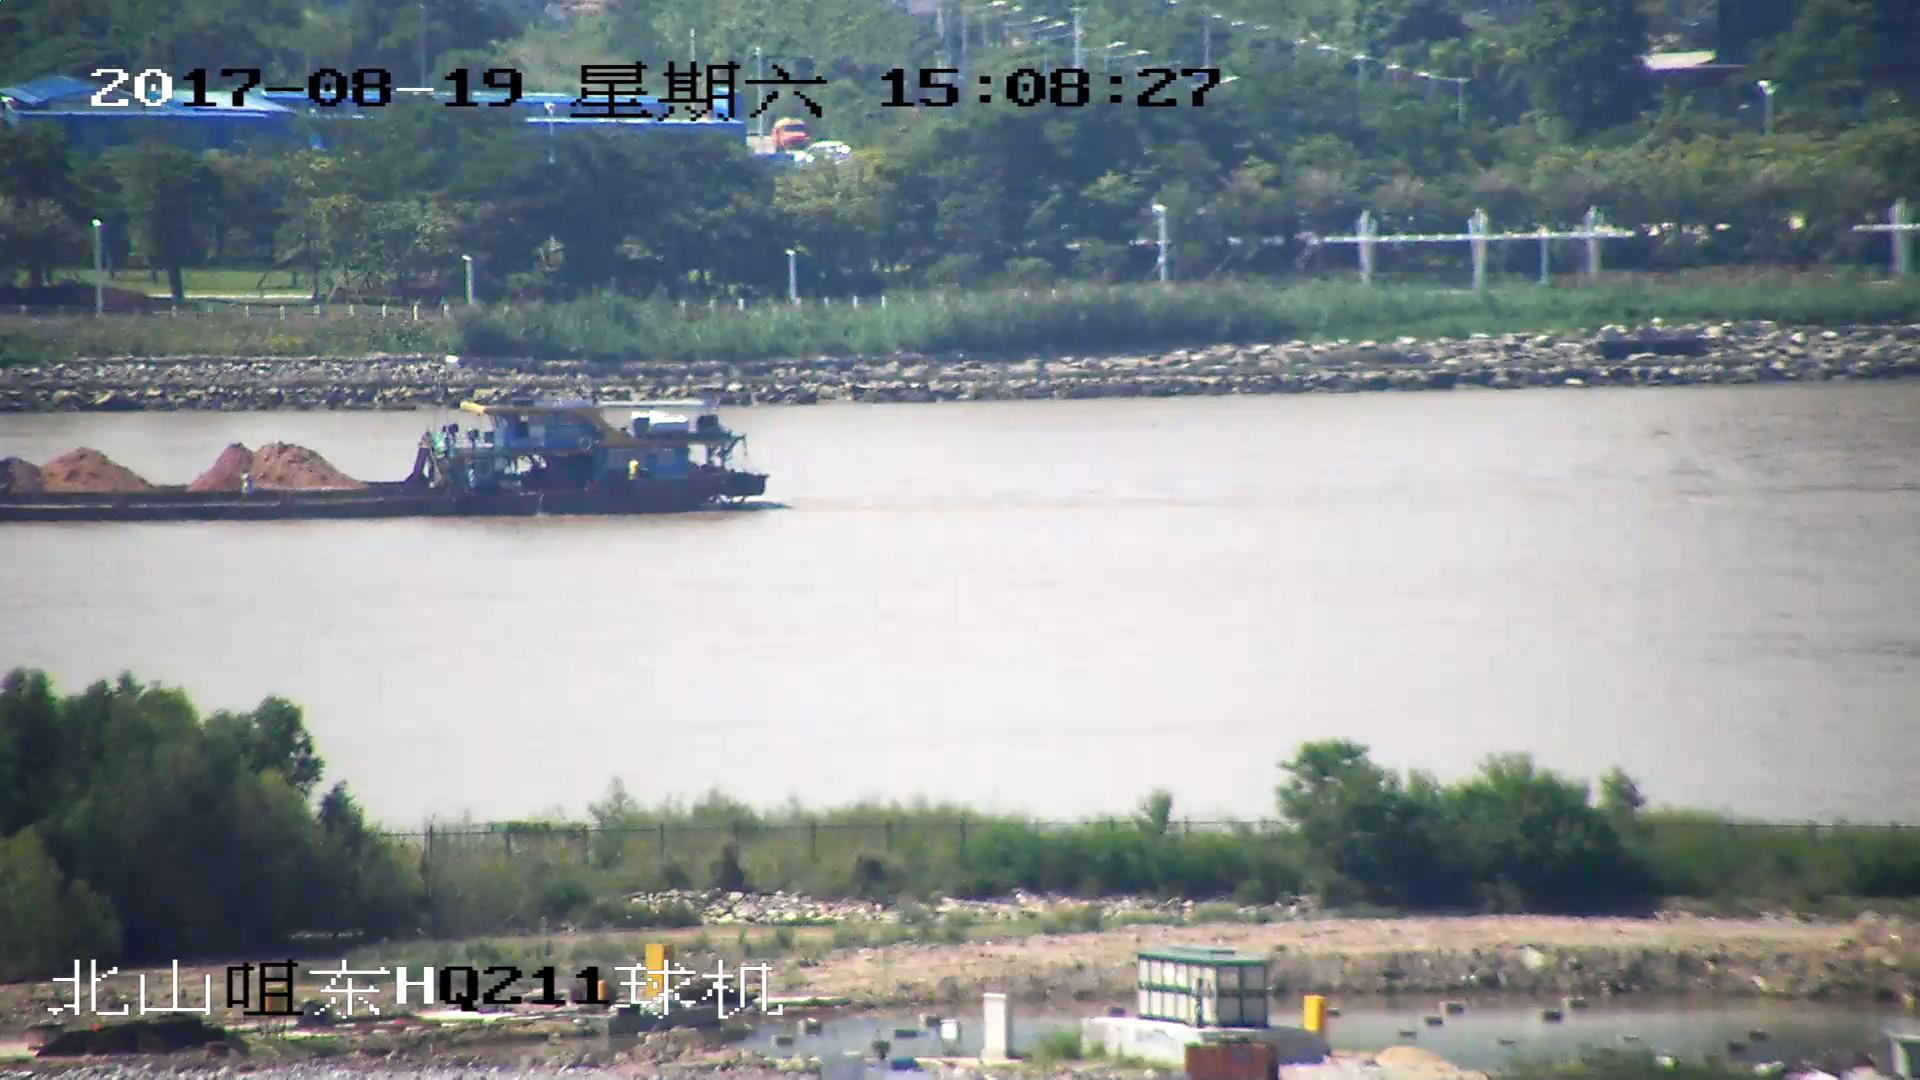Ship: (3, 386, 771, 521)
